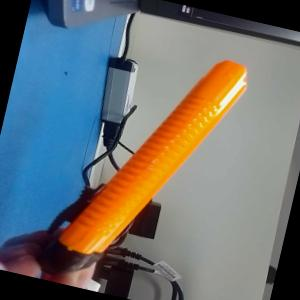estilete: (29, 25, 252, 300)
